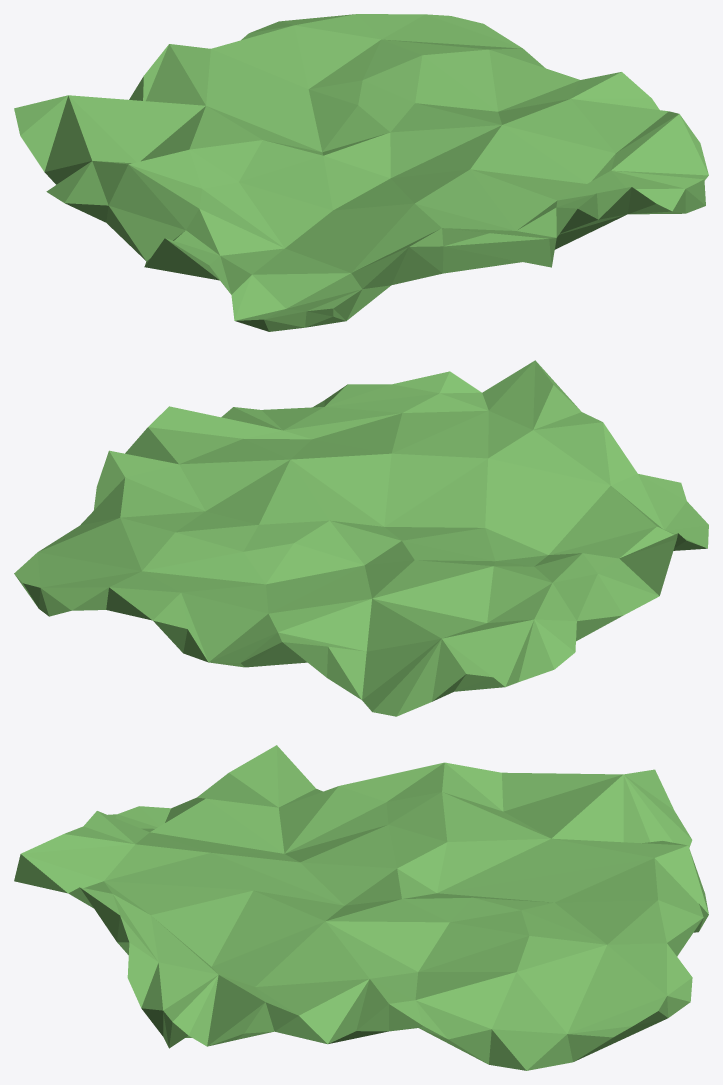
Rendered from lettuce.fbx.
3 views of the same model, one above another, from view 1: azimuth 30°, elevation 25°; view 2: azimuth 150°, elevation 25°; view 3: azimuth 270°, elevation 25° (orthographic). The views are drawn at different scales.
Visible parts, largest first — view 1: Plane.008; view 2: Plane.008; view 3: Plane.008.
Part boxes in pixels (bbox=[...]): Plane.008: bbox=[14, 14, 708, 331]; Plane.008: bbox=[14, 360, 708, 716]; Plane.008: bbox=[14, 745, 708, 1070].
Size of the model in its own units: 97.86 by 15.47 by 106.
